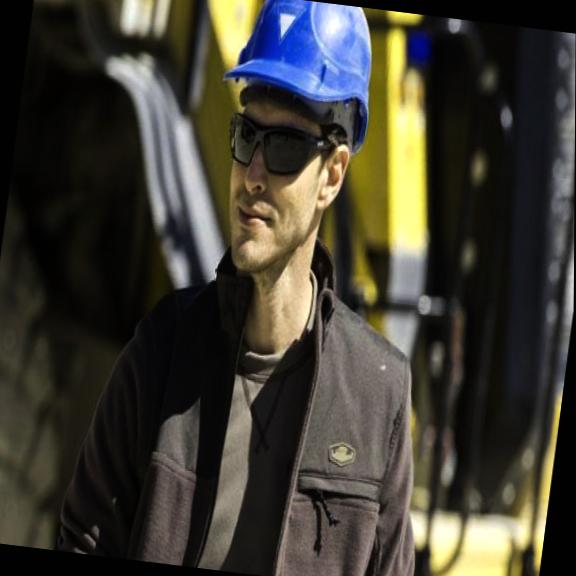no_safety_vest: (119, 246, 422, 576)
